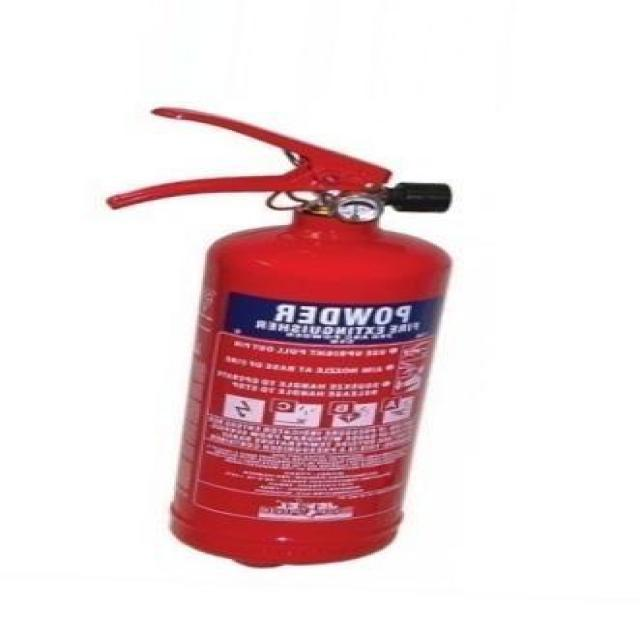fire_extinguisher: (97, 102, 464, 573)
